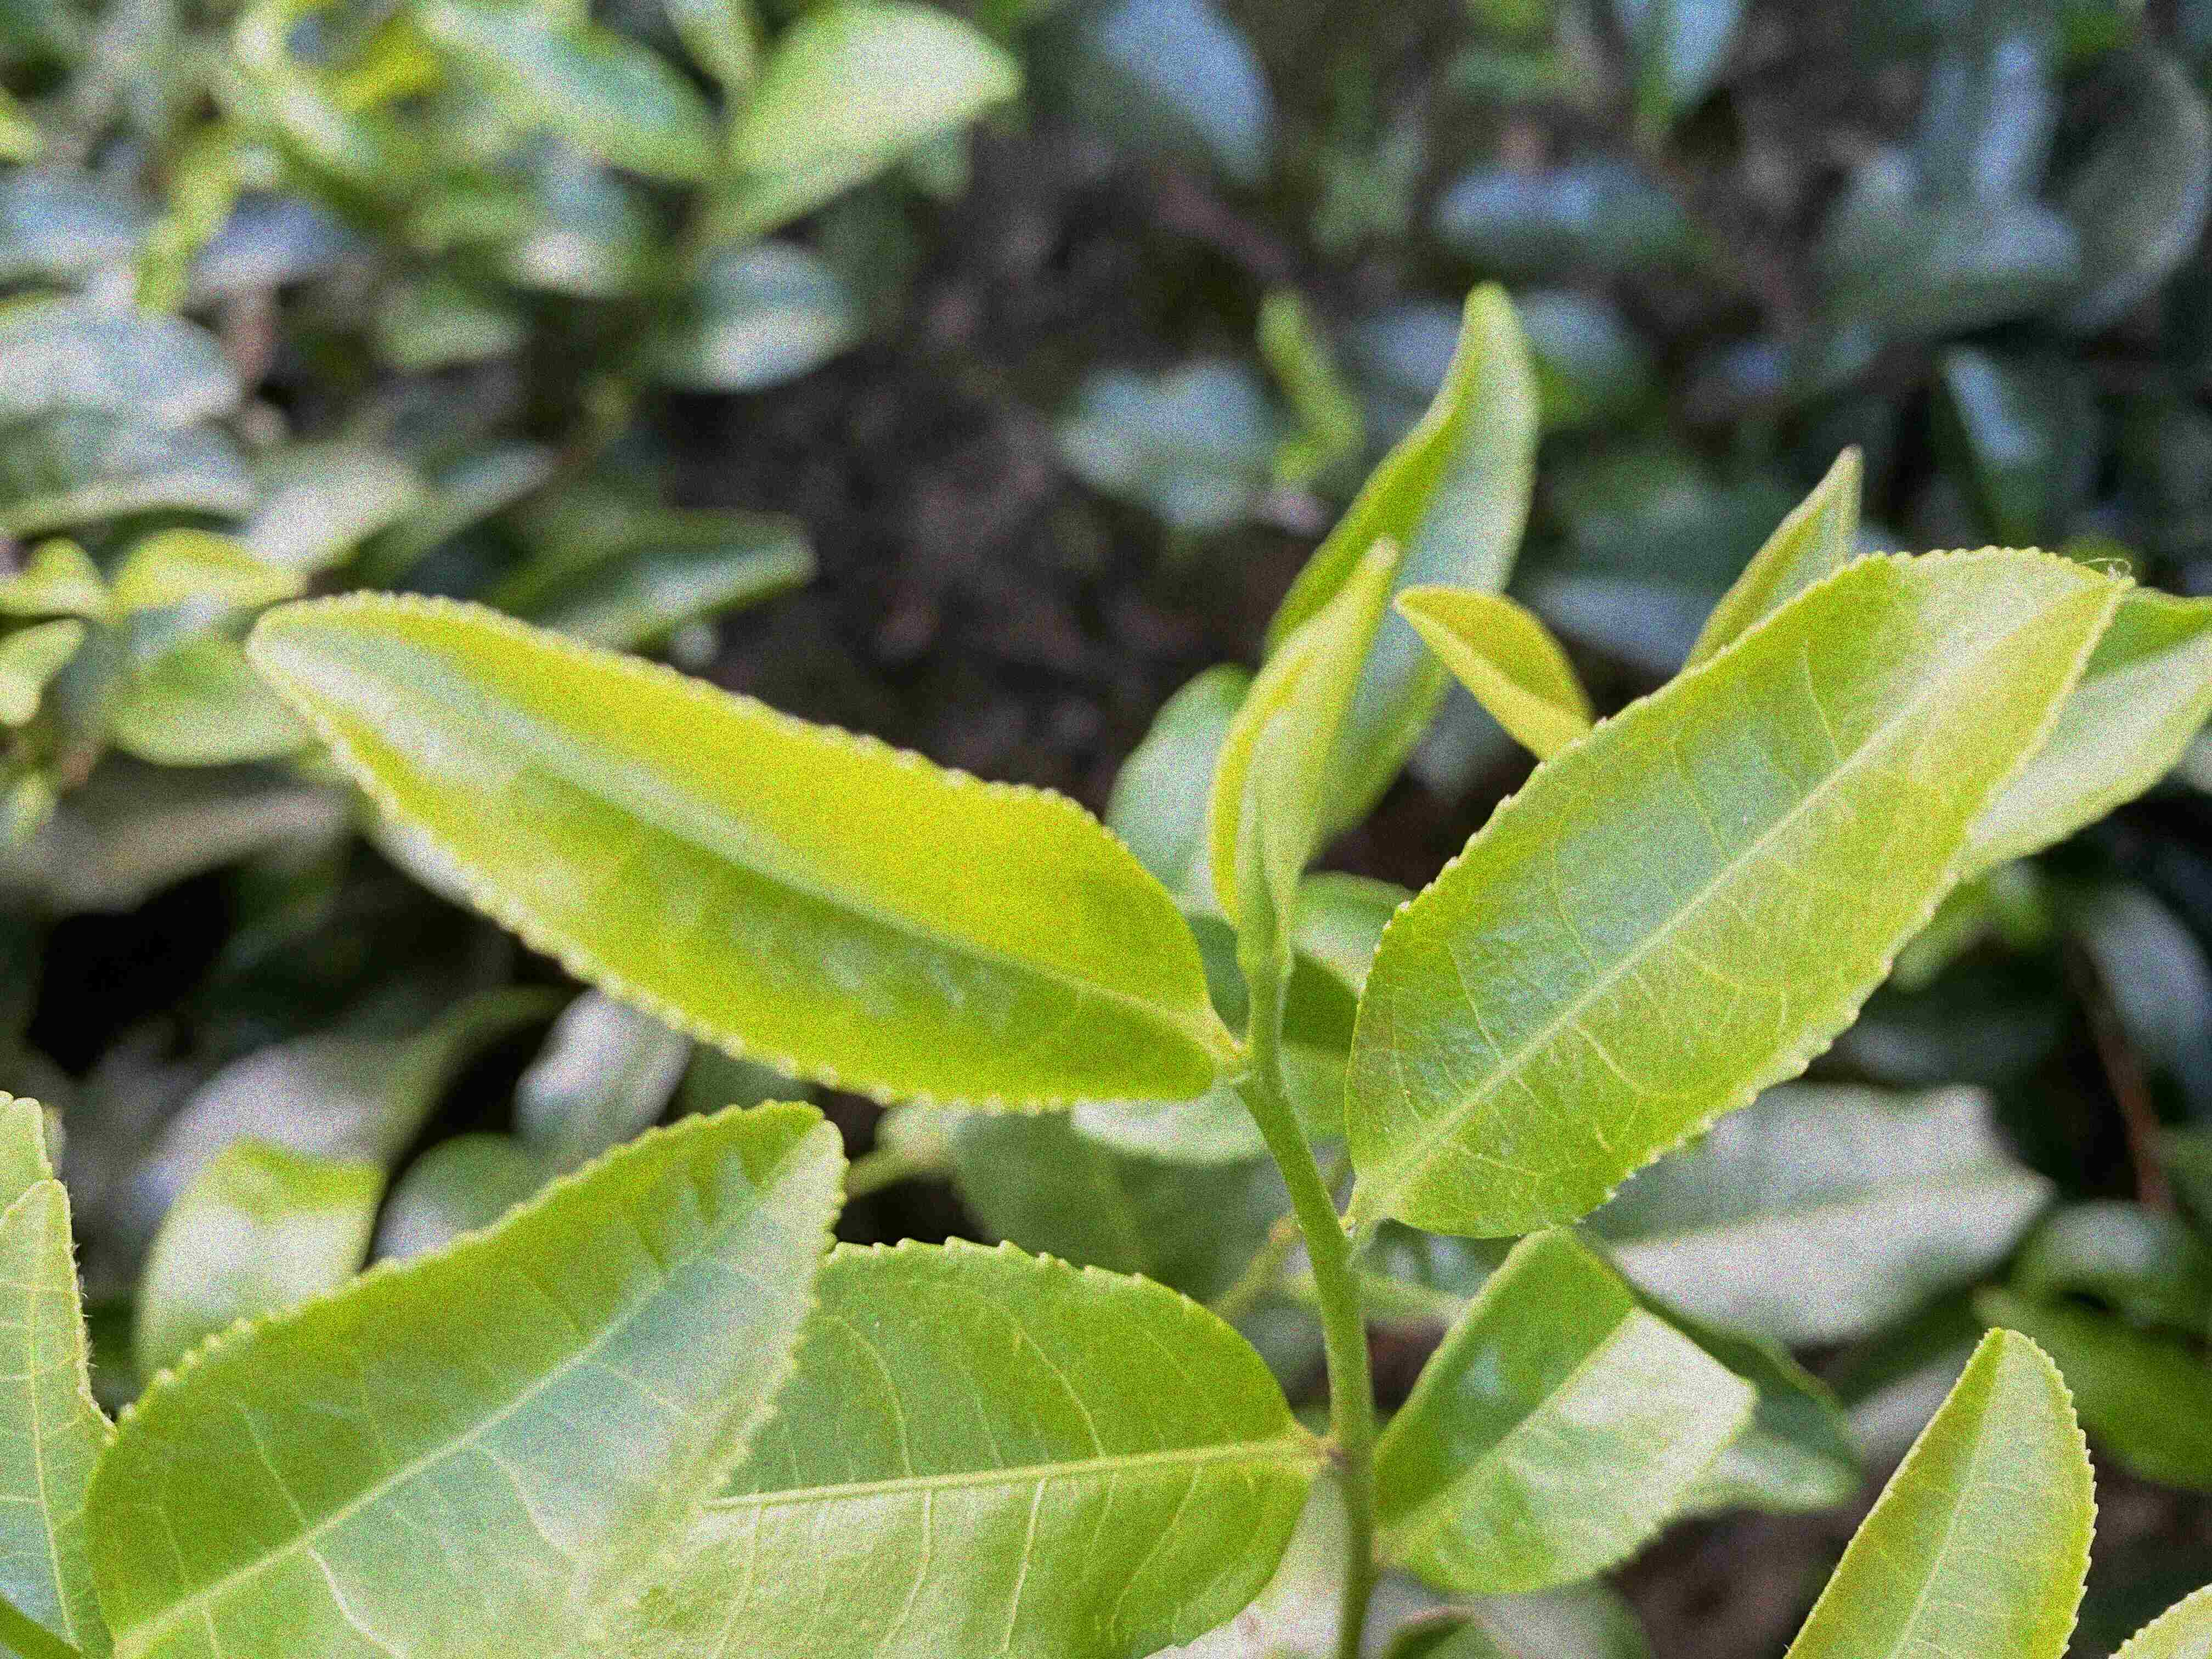chihuo_high: (1371, 1230, 1761, 1598)
healthy: (1343, 538, 2135, 1241), (244, 587, 1226, 1115), (80, 1100, 848, 1656), (1780, 1324, 2101, 1657)
